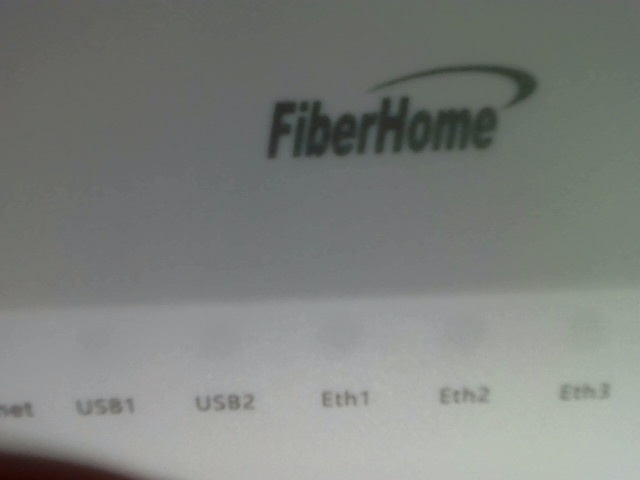AI_FiberHome: (250, 51, 546, 177)
